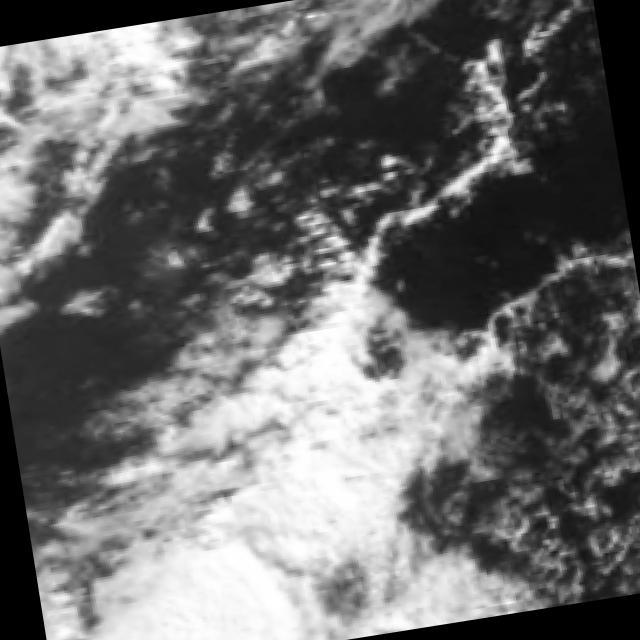CB: (230, 397, 392, 562), (98, 534, 295, 640)
